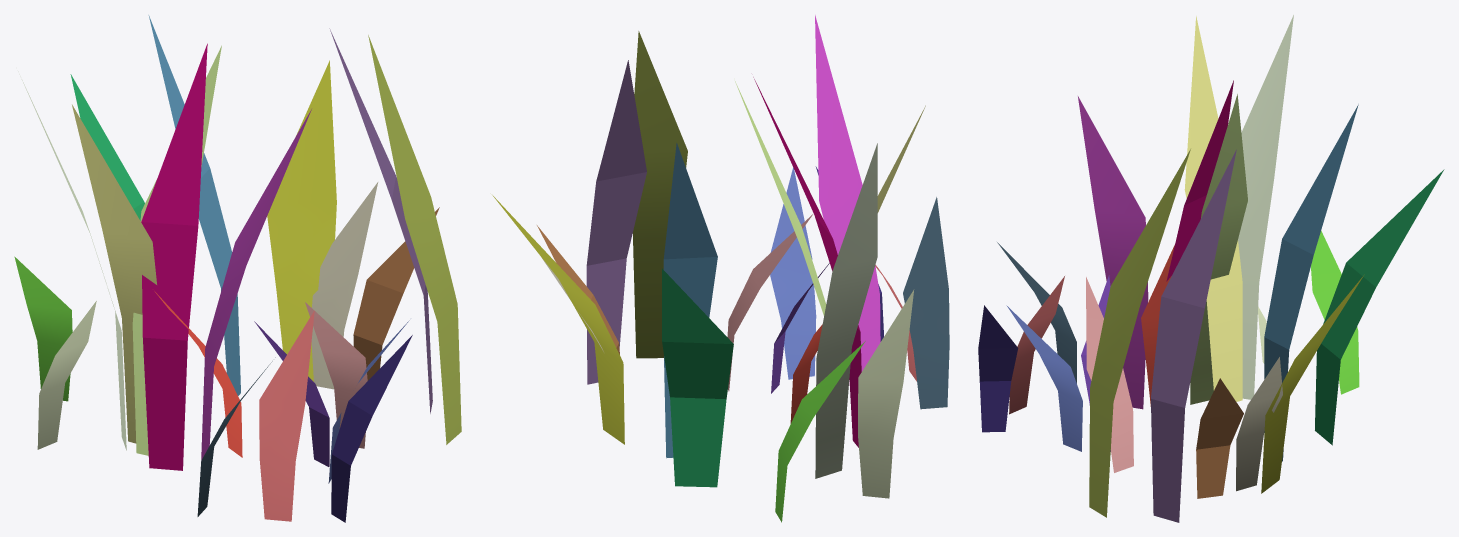
The model's file is grass_01_backup_dense.glb.
3 views of the same model, side by side, from view 1: azimuth 30°, elevation 25°; view 2: azimuth 150°, elevation 25°; view 3: azimuth 270°, elevation 25° (orthographic). The views are drawn at different scales.
Parts seen in each view (by area): view 1: grass_01; view 2: grass_01; view 3: grass_01.
Boxes of the visible parts, x1,y1,x2,y2 form: grass_01: (14,15,461,522); grass_01: (492,15,949,522); grass_01: (978,15,1444,522).
Bounding box in the file's own units: 1.09 × 1.05 × 1.24.
